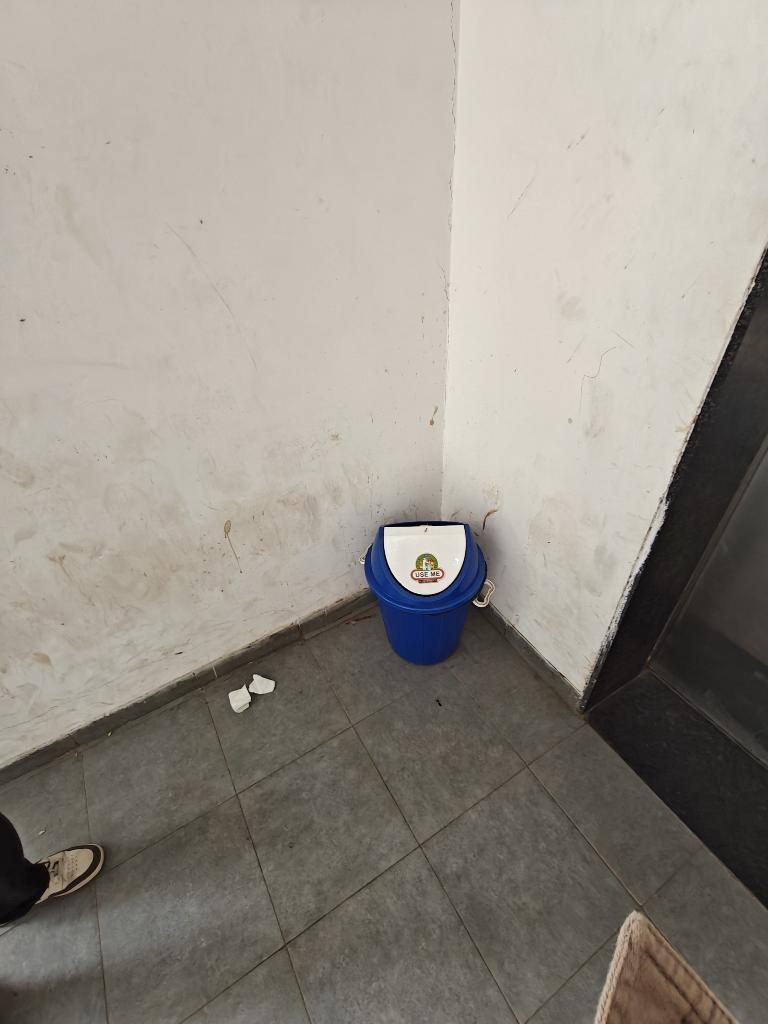dustbin: (353, 506, 502, 678)
